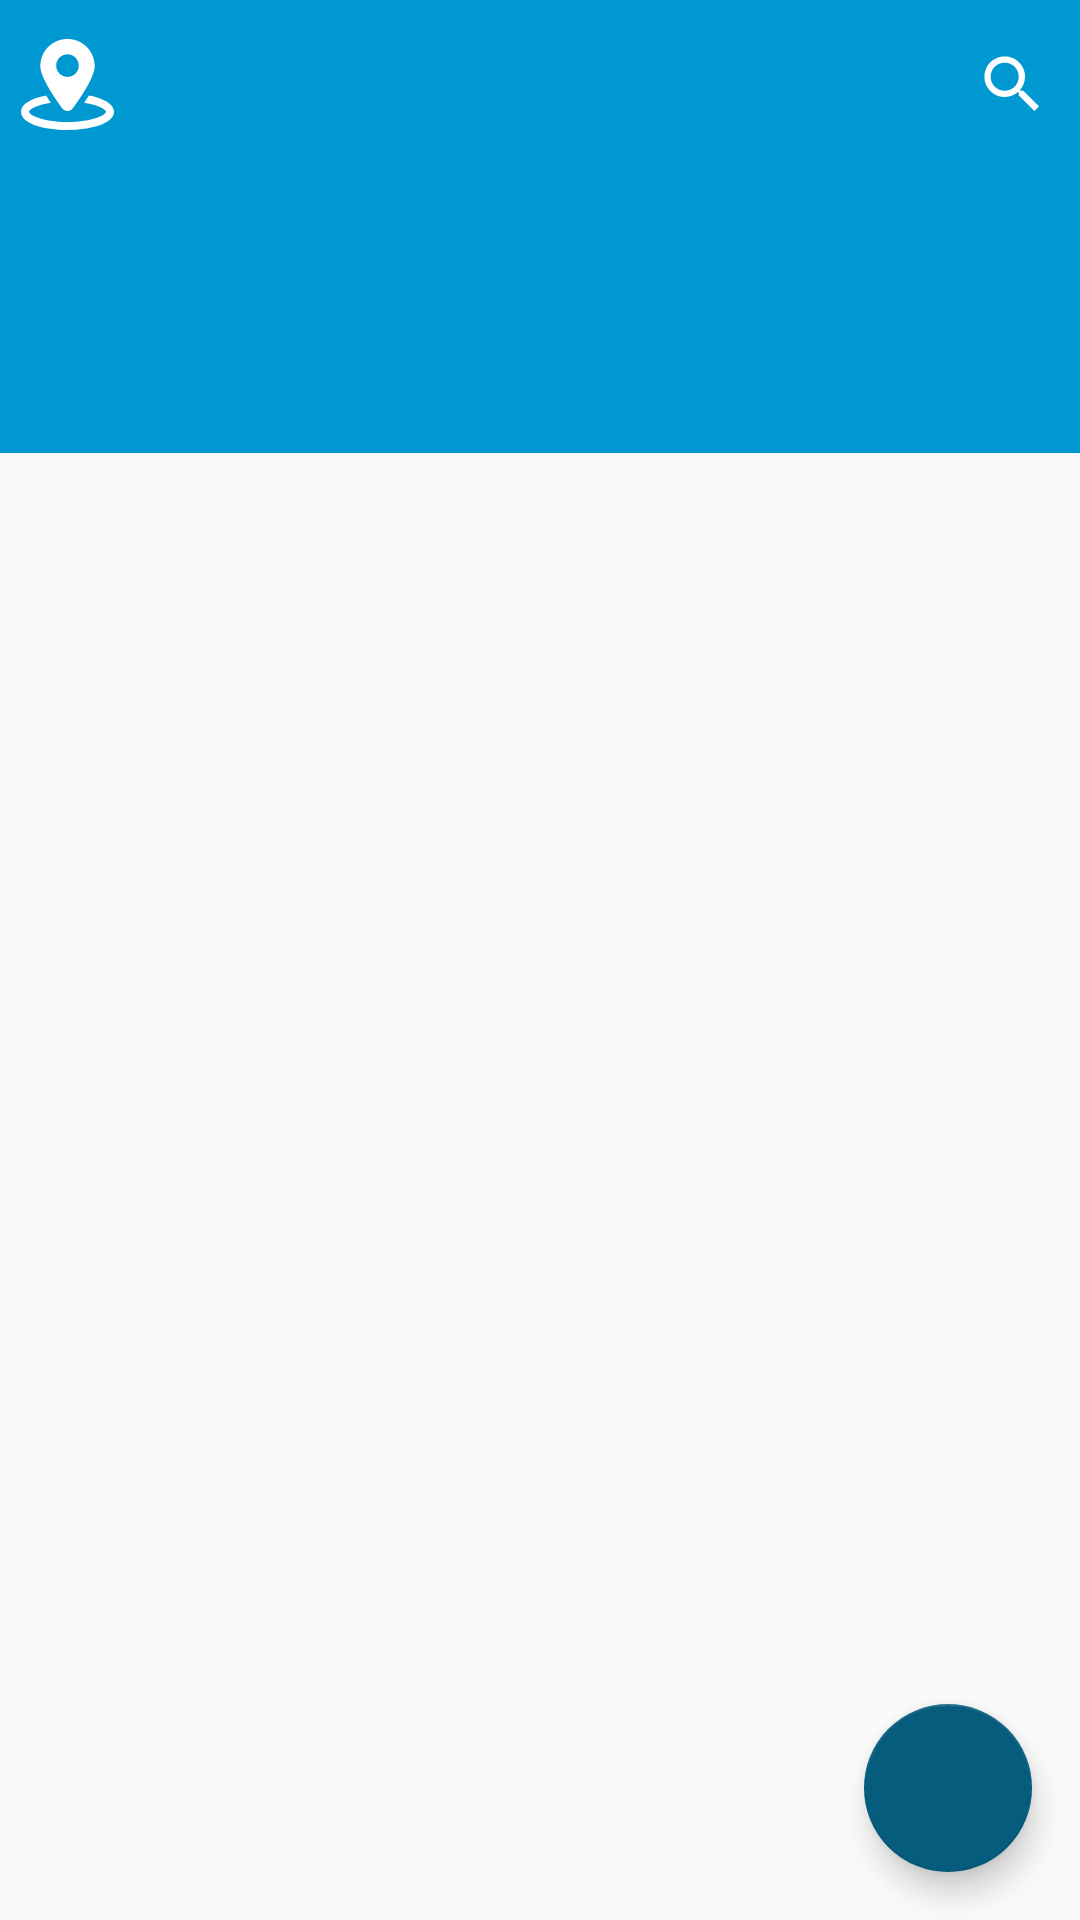

Icons on this 1080×1920 Android screen, each with the point to tap as (x=x, y=y):
location mark: (x=67, y=84)
search: (x=1011, y=83)
